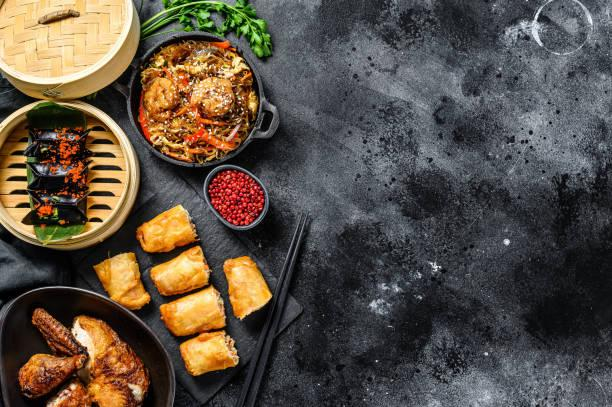Braised Crucian Carp: (0, 282, 177, 407), (127, 32, 280, 169), (1, 98, 139, 249)
